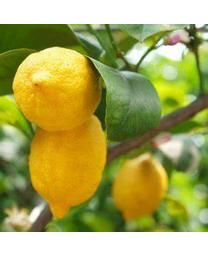lemon: (30, 115, 106, 218), (13, 47, 103, 132), (111, 156, 166, 220)
